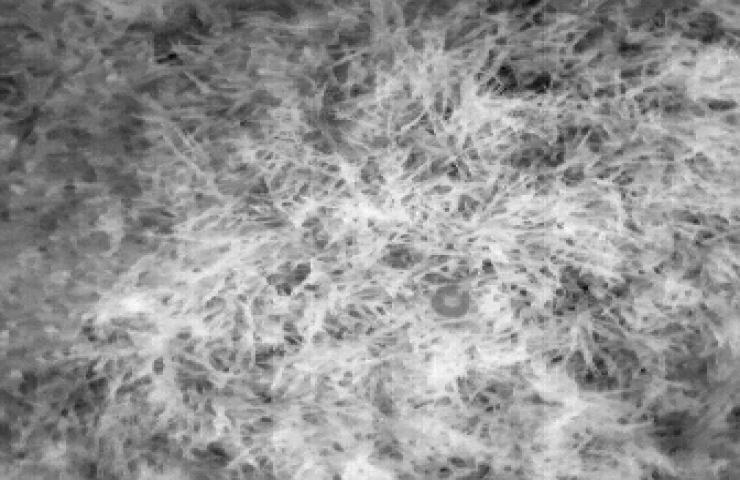landmines: (428, 282, 476, 321)
